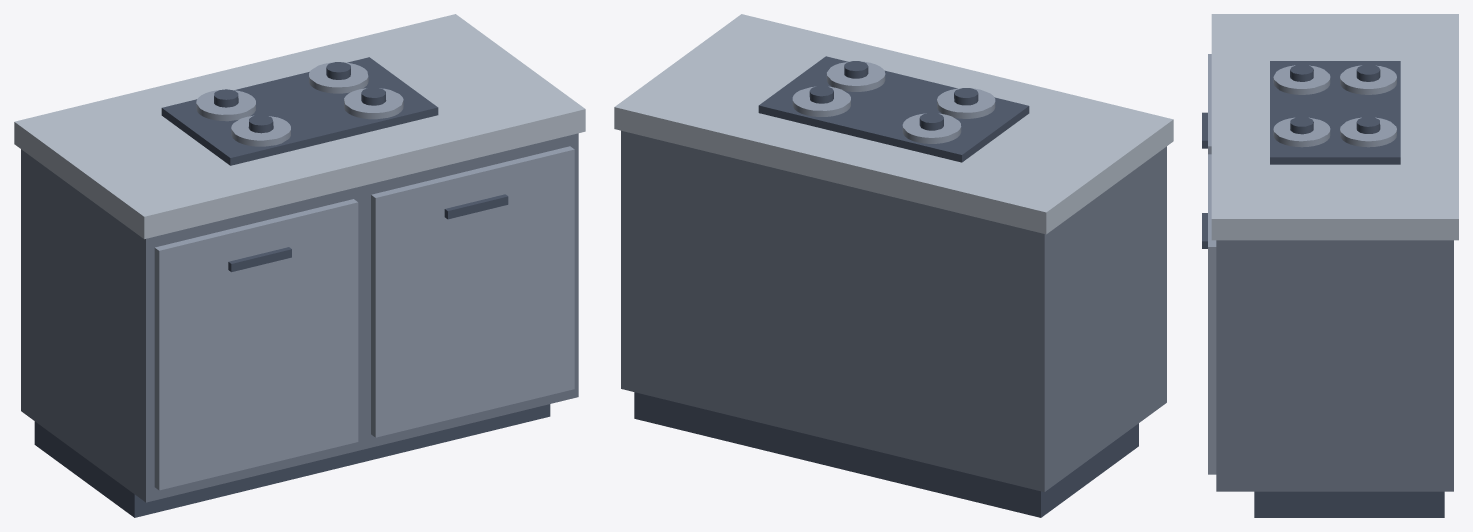
Rendered from kitchencooktop-lite.glb.
3 renders of one model, left to right at view 1: azimuth 30°, elevation 25°; view 2: azimuth 150°, elevation 25°; view 3: azimuth 270°, elevation 25°, orthographic. The views are drawn at different scales.
Parts seen in each view (by area): view 1: kitchencooktop; view 2: kitchencooktop; view 3: kitchencooktop.
Part boxes in pixels (x1=…): kitchencooktop: x1=14, y1=14, x2=585, y2=517; kitchencooktop: x1=614, y1=14, x2=1173, y2=517; kitchencooktop: x1=1202, y1=14, x2=1458, y2=517.
Size of the model in its own units: 1.22 by 0.9075 by 0.648.
